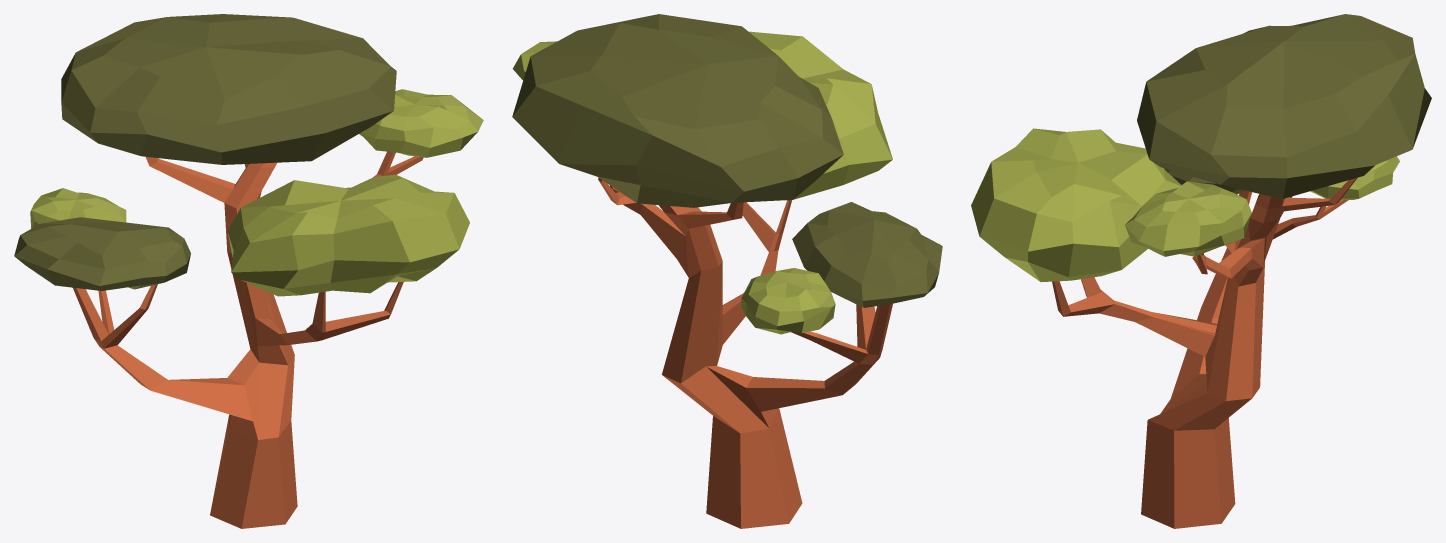
Rendered from Baum1.fbx.
3 renders of one model, left to right at view 1: azimuth 30°, elevation 25°; view 2: azimuth 150°, elevation 25°; view 3: azimuth 270°, elevation 25°, orthographic. The views are drawn at different scales.
Parts seen in each view (by area): view 1: Baum1; view 2: Baum1; view 3: Baum1.
Boxes of the visible parts, left/top/right/bottom form: Baum1: left=14, top=14, right=483, bottom=528; Baum1: left=512, top=14, right=942, bottom=528; Baum1: left=971, top=14, right=1431, bottom=528.
Bounding box in the file's own units: 8.13 × 8.06 × 7.22.
